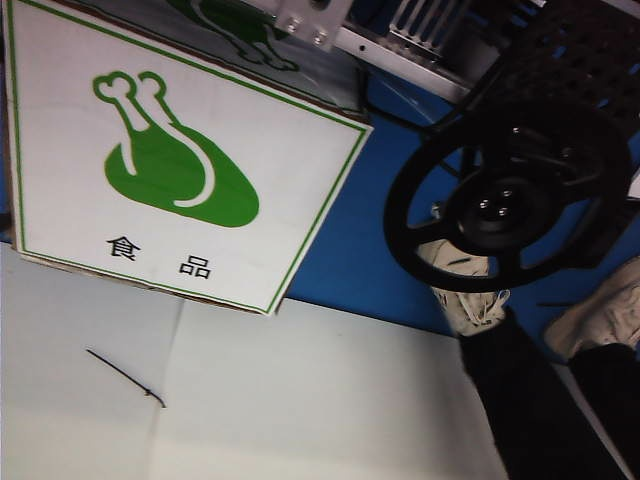Cube_food: (80, 59, 265, 295)
